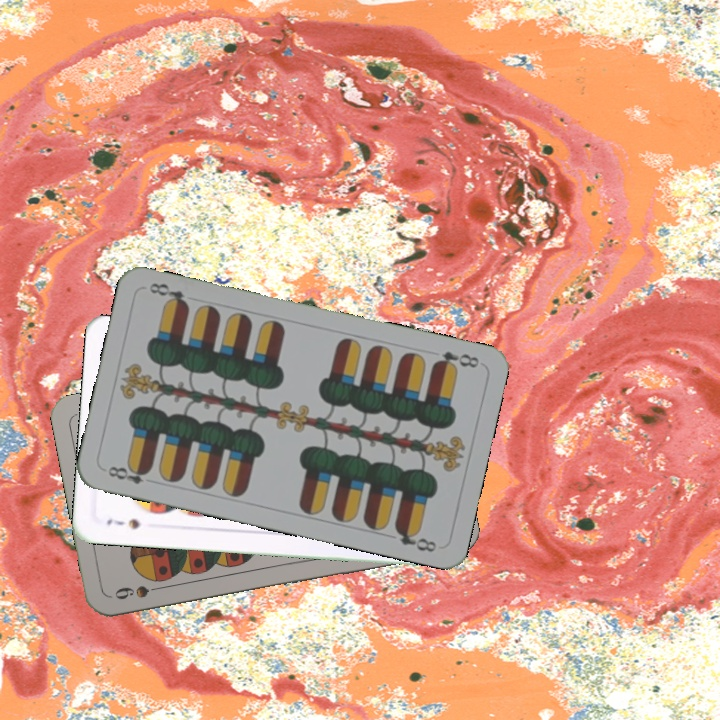E8: (429, 347, 482, 373), (103, 461, 153, 487)
S7: (103, 514, 143, 532)
S9: (110, 581, 168, 602)
